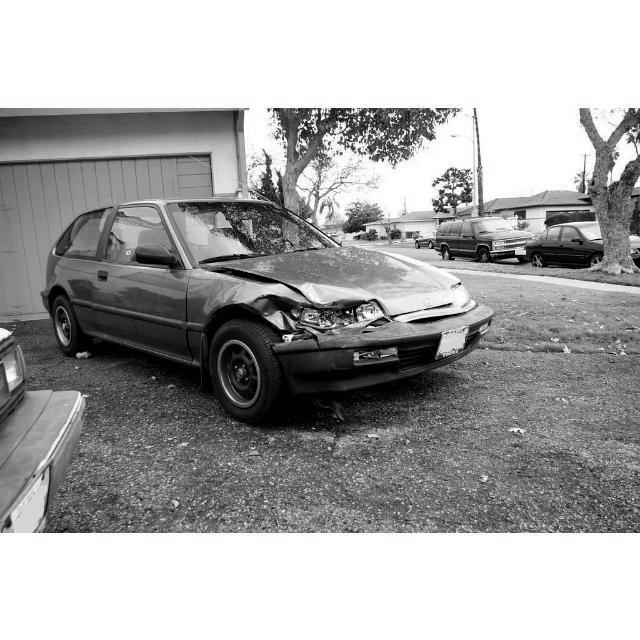Headlight-damage: (275, 292, 381, 342)
bonnet-dent: (225, 235, 408, 293)
fender-dent: (196, 278, 279, 319)
